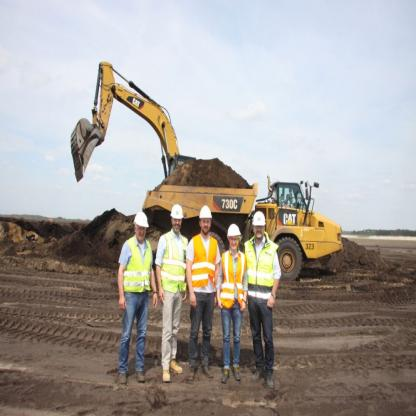dump_truck: (138, 143, 345, 290)
person: (247, 208, 289, 384), (114, 205, 156, 381), (154, 175, 188, 383), (186, 191, 222, 387), (218, 208, 245, 391)
